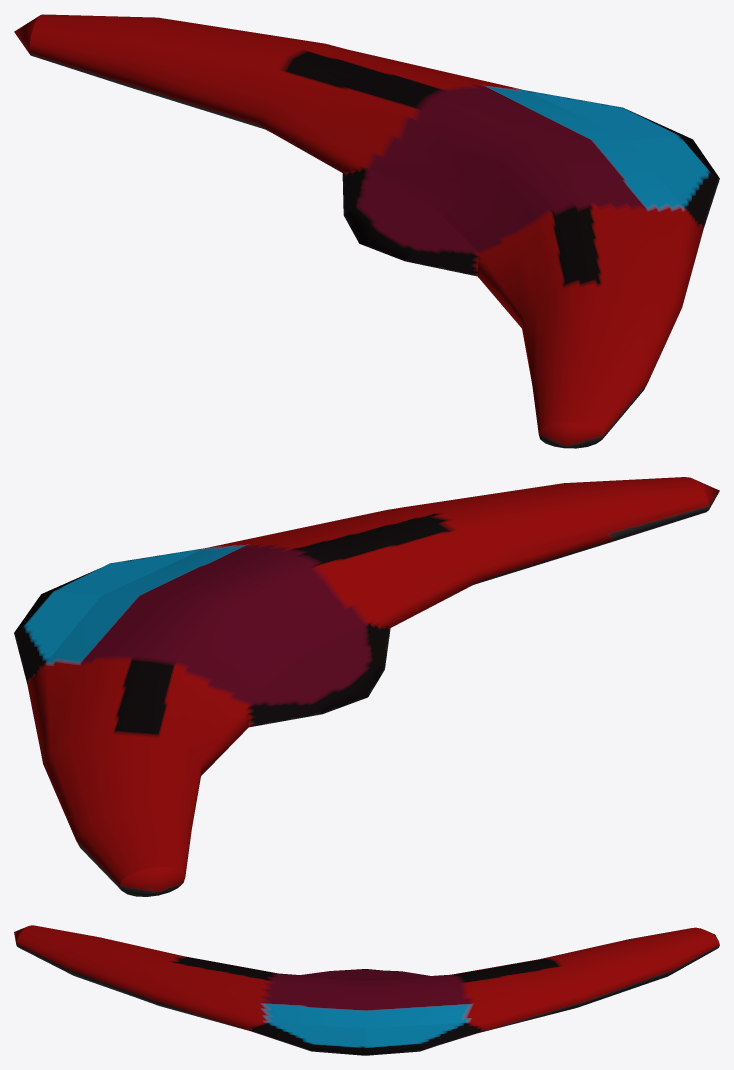
File: mini ship 1 texture 1.FBX
3 renders of one model, top to bottom at view 1: azimuth 30°, elevation 25°; view 2: azimuth 150°, elevation 25°; view 3: azimuth 270°, elevation 25°, orthographic. The views are drawn at different scales.
Parts seen in each view (by area): view 1: Cylinder001; view 2: Cylinder001; view 3: Cylinder001.
Part boxes in pixels (box(x1,y1,x2,y2)): Cylinder001: box(14, 14, 719, 448); Cylinder001: box(14, 477, 719, 896); Cylinder001: box(14, 925, 719, 1055).
Bounding box in the file's own units: 34.06 × 5.41 × 80.08.
Materials: 1 (1 with a texture image).
